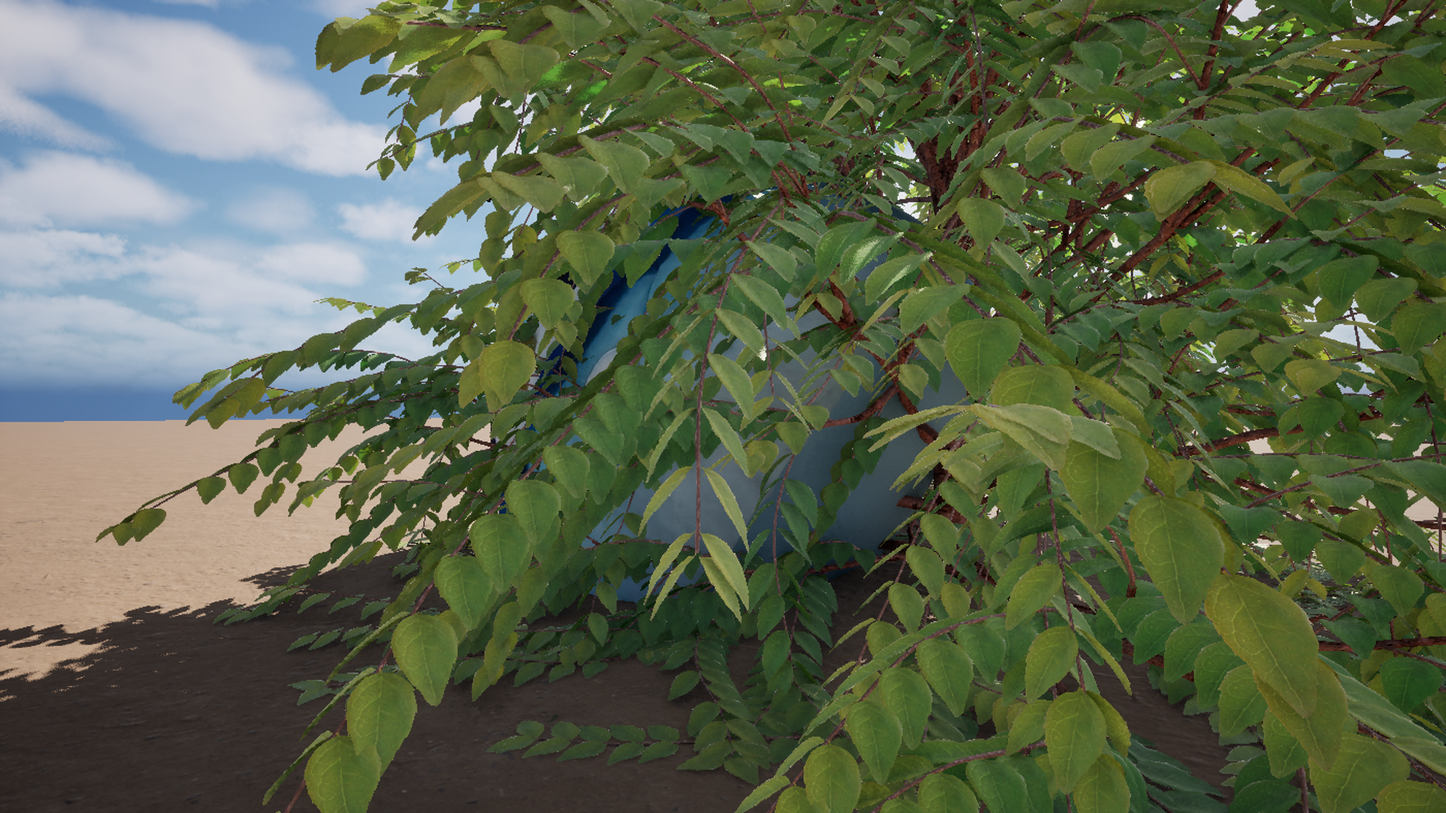Piplup: (393, 0, 1152, 813)
